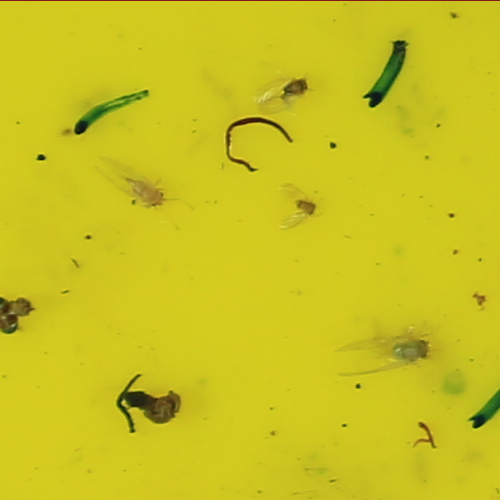Glycaspis: (387, 334, 434, 363), (128, 177, 166, 209)
Platyobria: (295, 195, 322, 219)
psylla: (281, 77, 310, 96)
